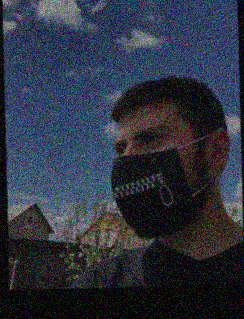with_mask: (110, 120, 197, 240)
